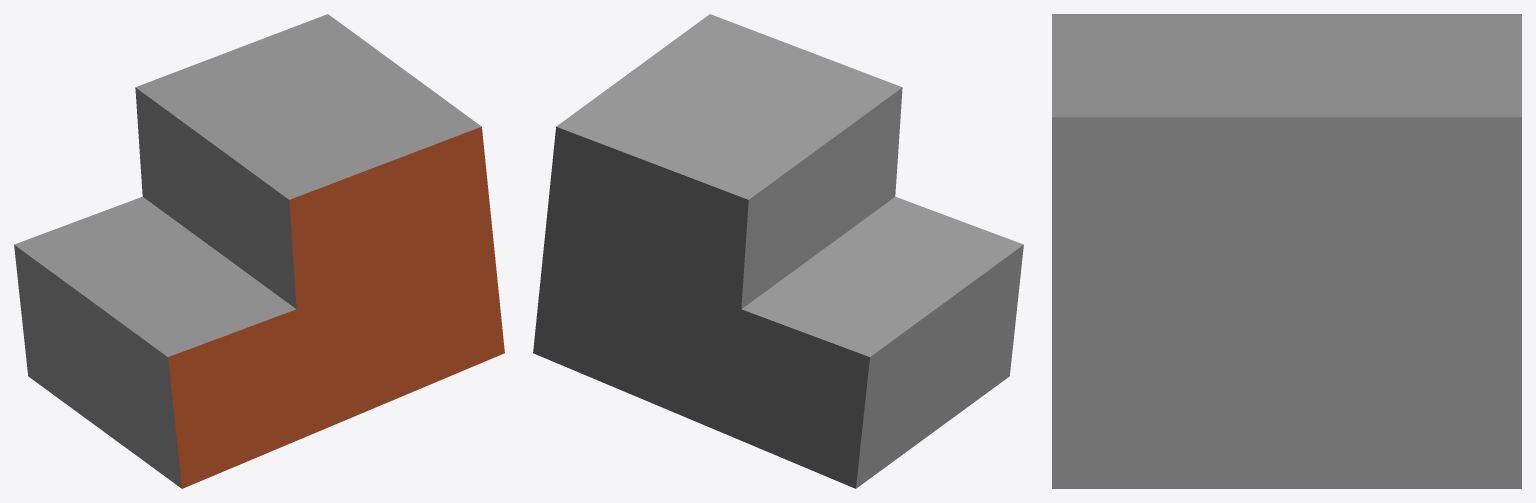
File: construction_0924_assumed_A_Casa_h6m.obj
3 views of the same model, side by side, from view 1: azimuth 30°, elevation 25°; view 2: azimuth 150°, elevation 25°; view 3: azimuth 270°, elevation 25° (orthographic). The views are drawn at different scales.
Parts seen in each view (by area): view 1: construction_0924_assumed_A_Casa; view 2: construction_0924_assumed_A_Casa; view 3: construction_0924_assumed_A_Casa.
Part boxes in pixels (box(x1,y1,x2,y2)): construction_0924_assumed_A_Casa: box(14, 14, 504, 488); construction_0924_assumed_A_Casa: box(533, 14, 1023, 488); construction_0924_assumed_A_Casa: box(1052, 14, 1521, 488).
Bounding box in the file's own units: 7.59 × 6.22 × 6.
